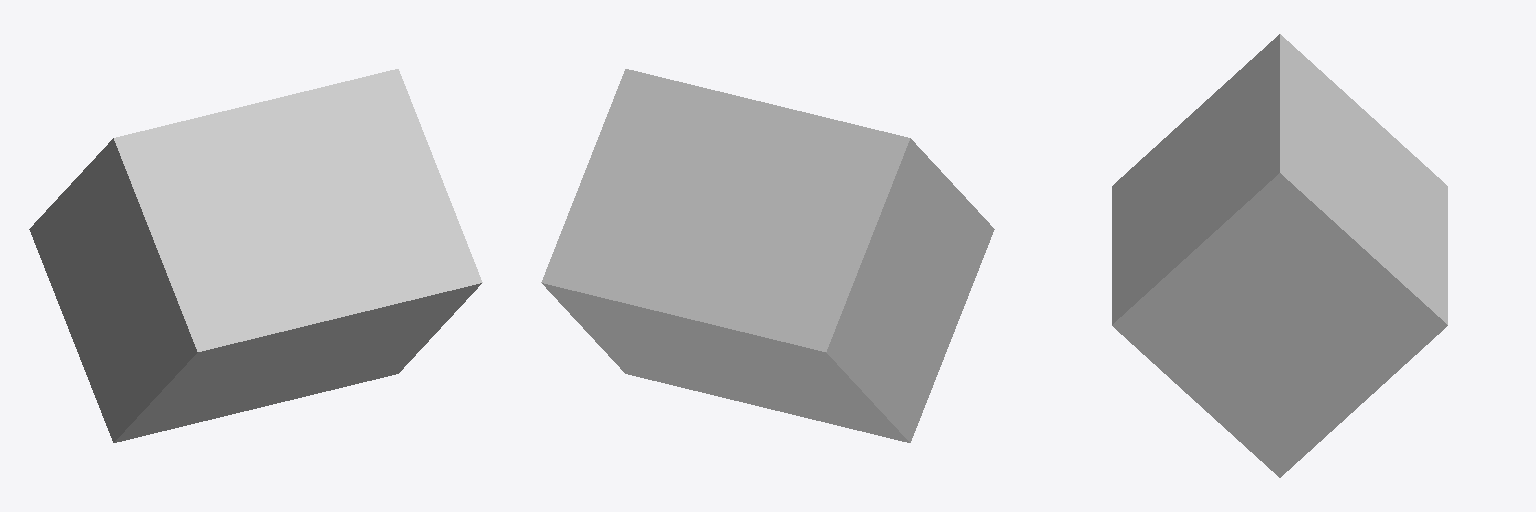
3 views of the same model, side by side, from view 1: azimuth 30°, elevation 25°; view 2: azimuth 150°, elevation 25°; view 3: azimuth 270°, elevation 25° (orthographic).
Parts seen in each view (by area): view 1: debug; view 2: debug; view 3: debug.
Boxes of the visible parts, box(x1,y1,x2,y2) form: debug: box(29, 69, 482, 442); debug: box(541, 69, 994, 442); debug: box(1112, 34, 1447, 477).
Bounding box in the file's own units: 3.98 × 4.07 × 4.07.